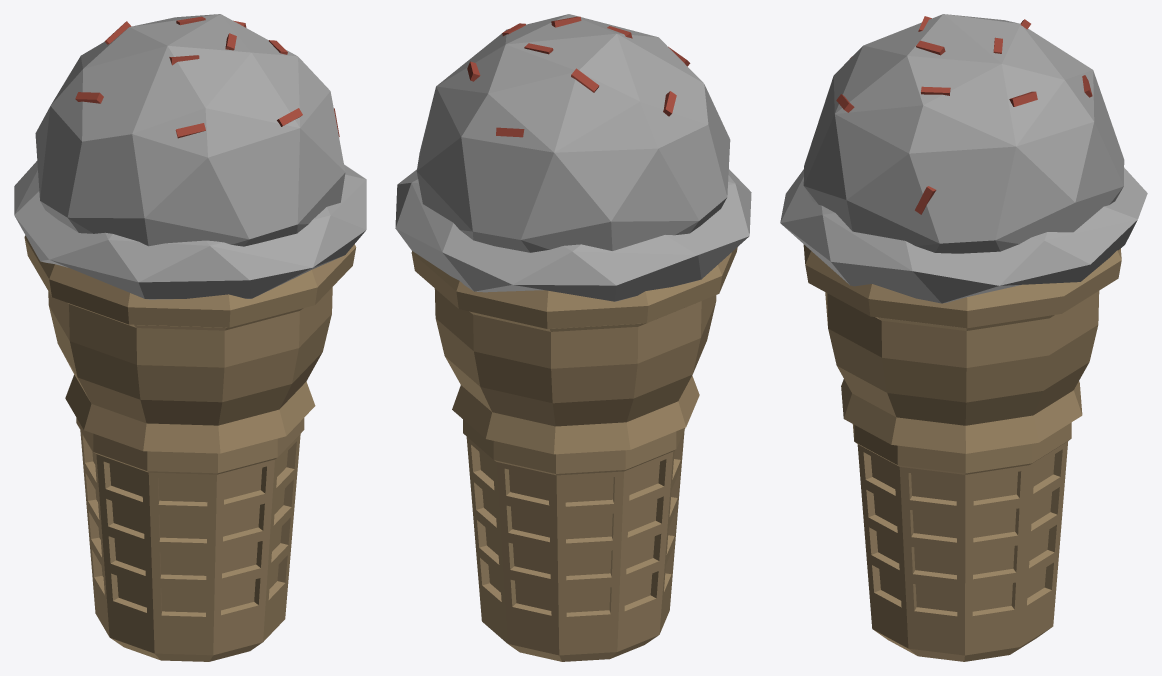
File: IceCream.obj
3 views of the same model, side by side, from view 1: azimuth 30°, elevation 25°; view 2: azimuth 150°, elevation 25°; view 3: azimuth 270°, elevation 25° (orthographic).
Parts seen in each view (by area): view 1: mesh_0, mesh_2, mesh_1; view 2: mesh_0, mesh_2, mesh_1; view 3: mesh_0, mesh_2, mesh_1.
Part boxes in pixels (x1,y1,x2,y2): mesh_0: (24, 235, 356, 661); mesh_2: (14, 14, 366, 299); mesh_1: (75, 16, 339, 138); mesh_0: (411, 247, 737, 661); mesh_2: (395, 14, 751, 301); mesh_1: (467, 16, 690, 137); mesh_0: (803, 244, 1121, 661); mesh_2: (780, 14, 1147, 303); mesh_1: (836, 16, 1092, 214).
Bounding box in the file's own units: 0.5155 × 0.9274 × 0.5155.
